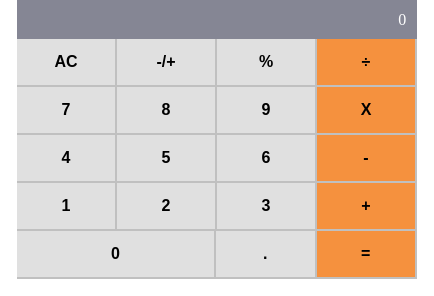
Scenario: App › when using unary operations › current number being entered on the calculator is applied the operation
This screenshot has width=434, height=296.
Click the button "1" at x=67, y=207, box [17,183,117,231]
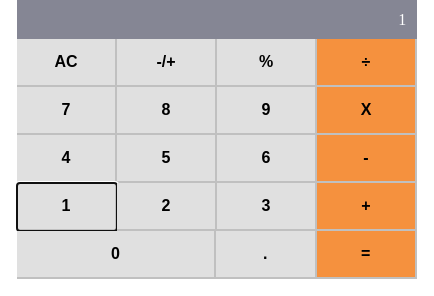
Click the button "%" at x=267, y=63, box [217,39,317,87]
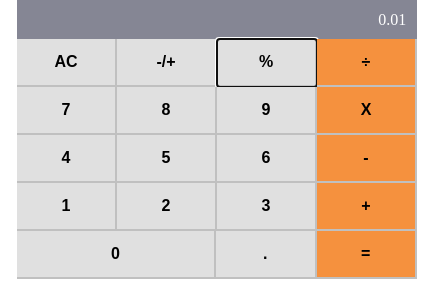
expect the text with class "display" reads "0.01": met, box [378,11,406,28]
